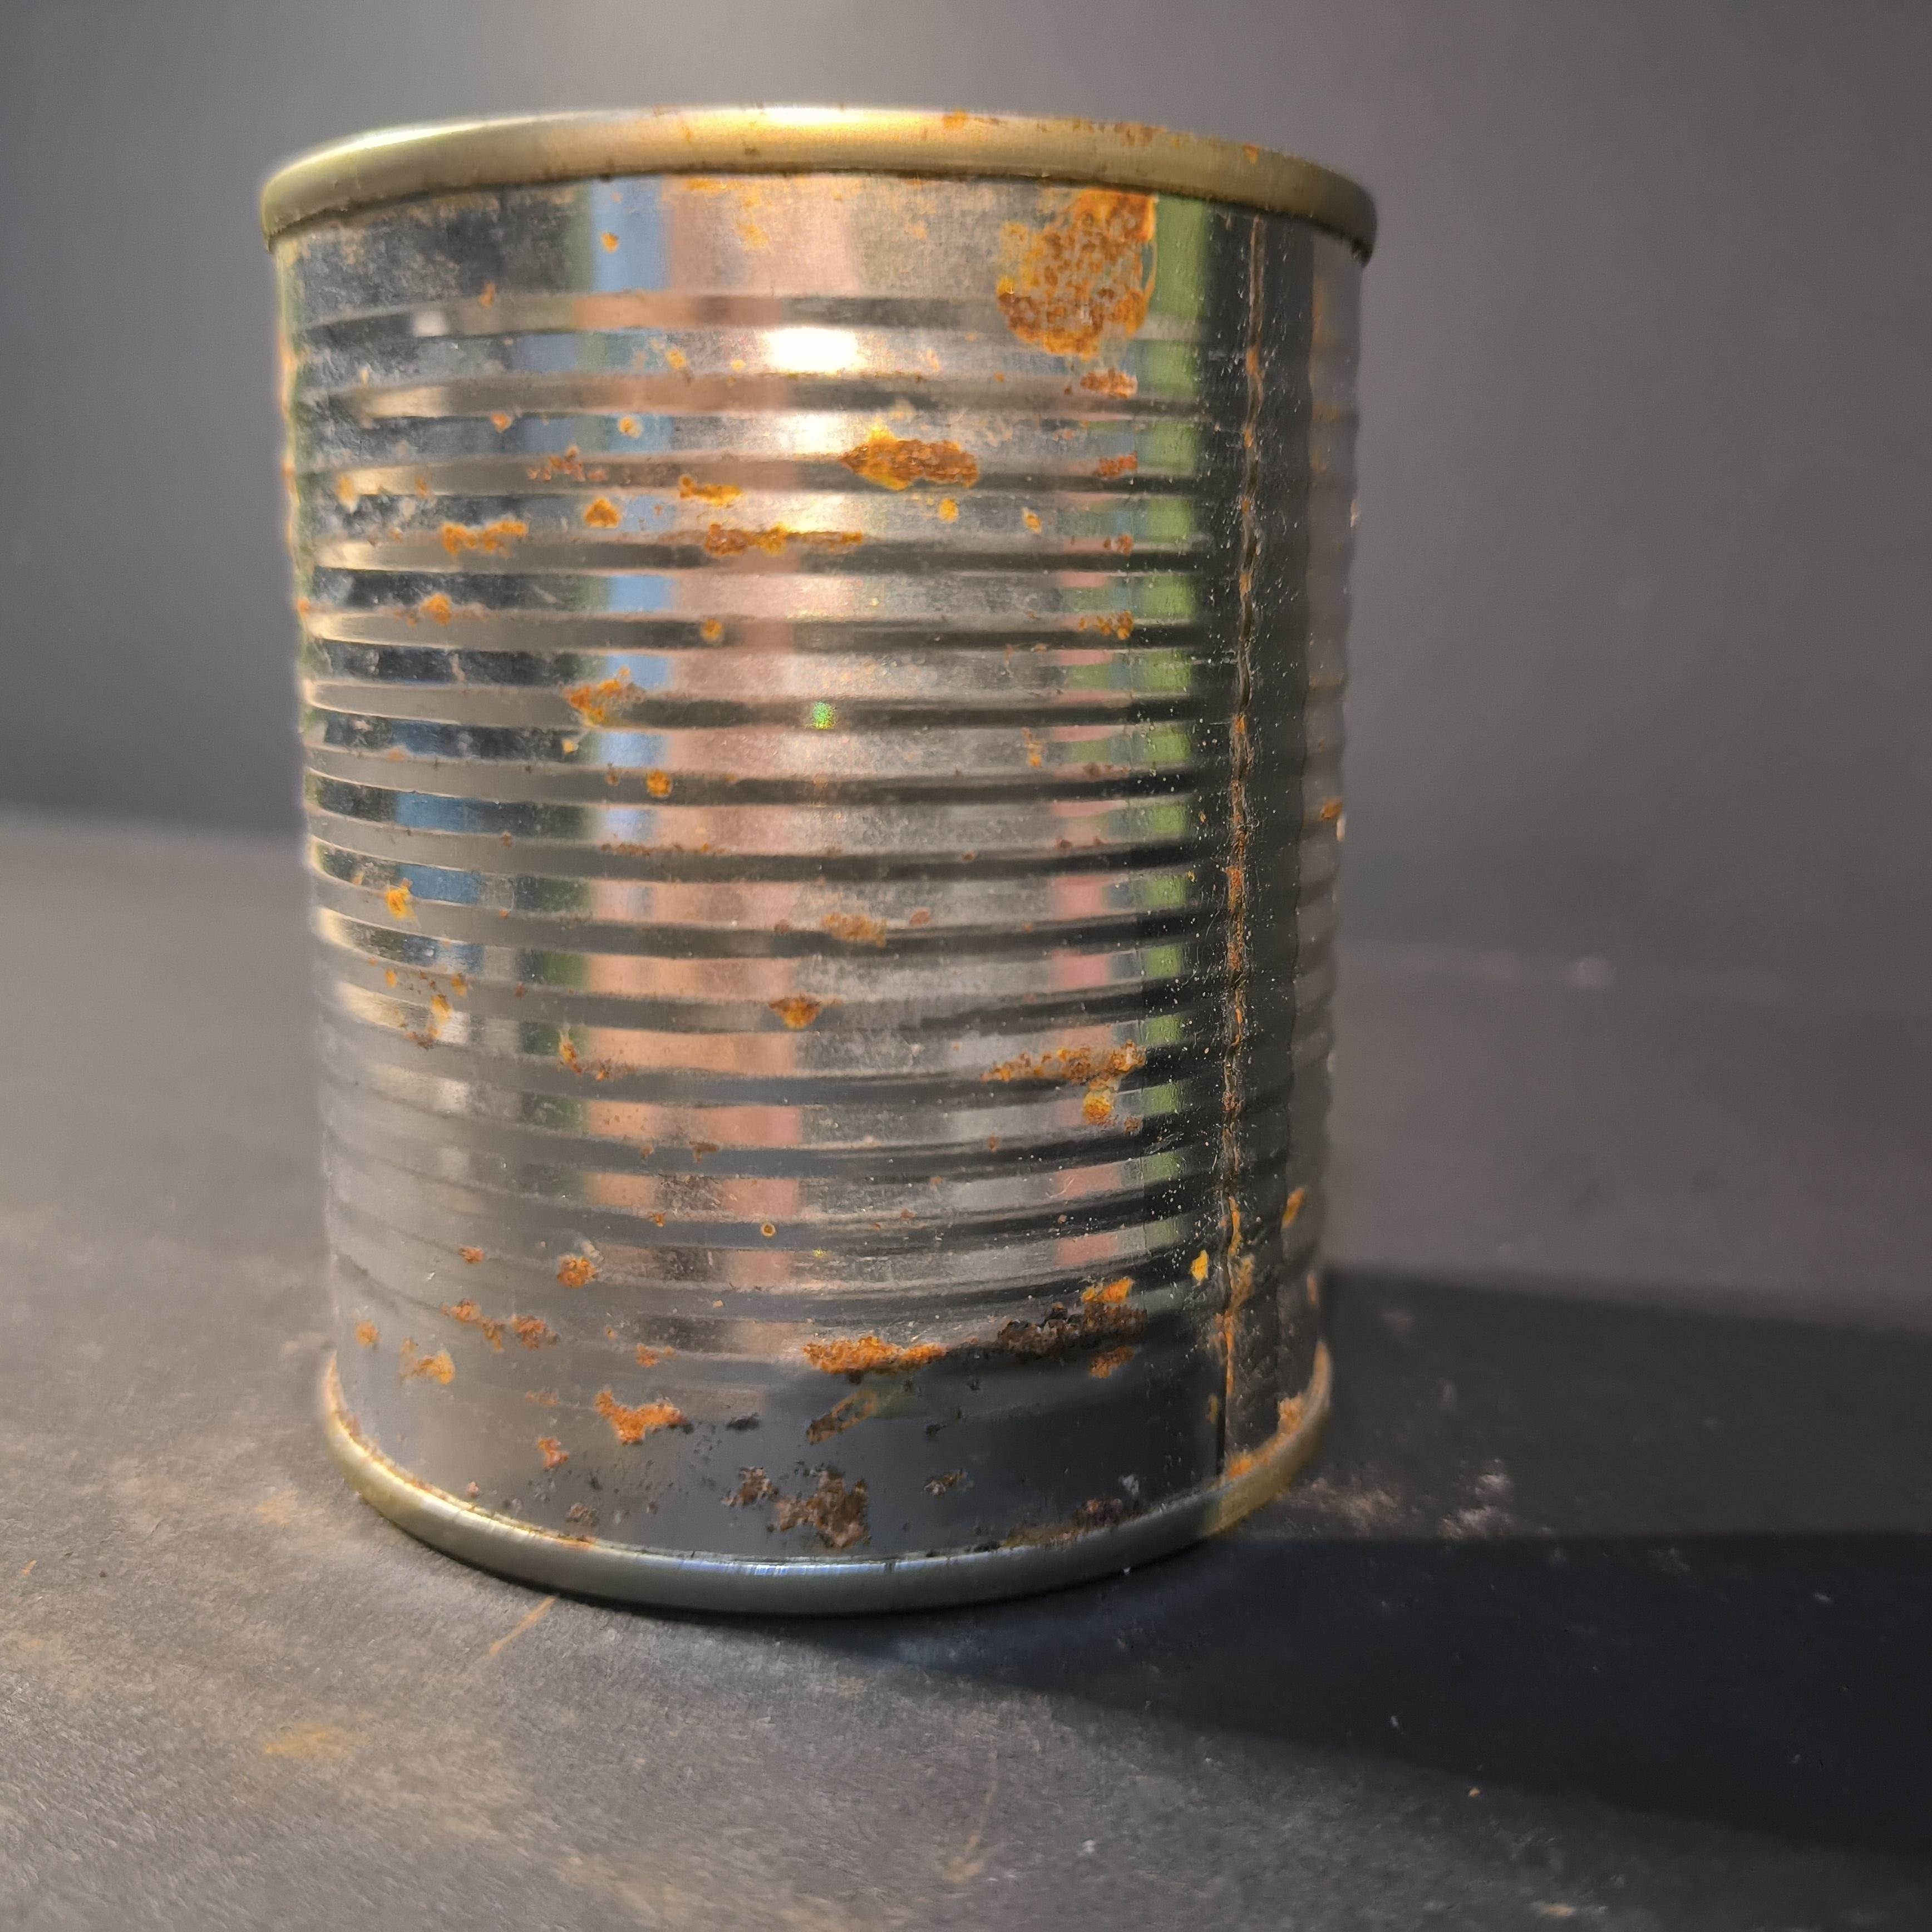Rusted: (239, 78, 1408, 1647)
